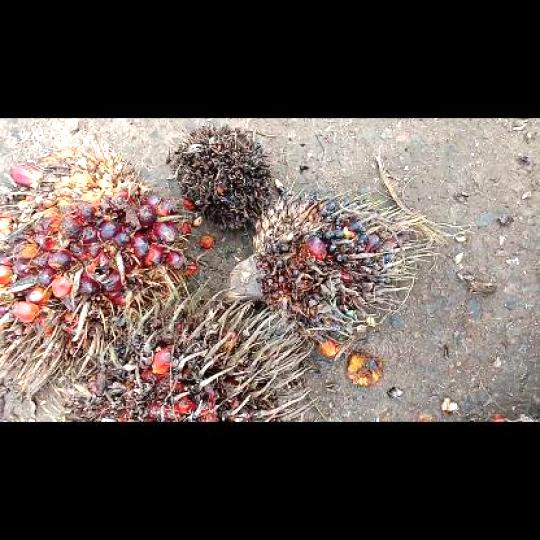masak: (0, 144, 200, 401)
terlalu masak: (68, 286, 320, 420)
